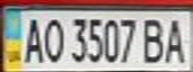0: (103, 16, 121, 64)
3: (66, 15, 87, 63)
5: (84, 15, 106, 63)
7: (118, 16, 142, 64)
A: (160, 15, 190, 64), (18, 13, 45, 64)
B: (139, 16, 169, 64)
O: (39, 13, 66, 64)
